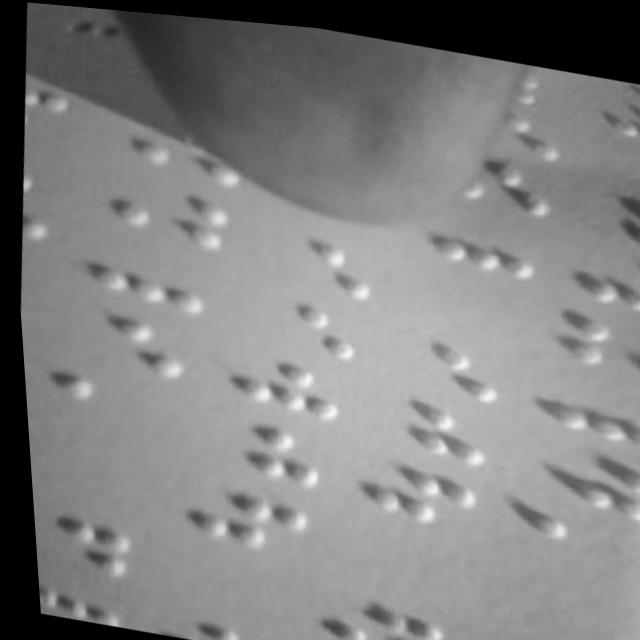braiile: (358, 379, 500, 461), (188, 404, 330, 486), (369, 316, 512, 397), (176, 468, 311, 553), (102, 166, 237, 248), (83, 229, 213, 314), (219, 338, 347, 423), (63, 299, 197, 380), (354, 446, 486, 525), (425, 190, 548, 274), (252, 221, 383, 298), (26, 493, 141, 578), (238, 284, 367, 357), (307, 577, 450, 640), (528, 433, 640, 513), (539, 361, 640, 441), (29, 553, 133, 628), (557, 294, 640, 375), (149, 591, 283, 640), (572, 234, 640, 309), (580, 168, 640, 244), (463, 615, 615, 640), (304, 640, 440, 640)
